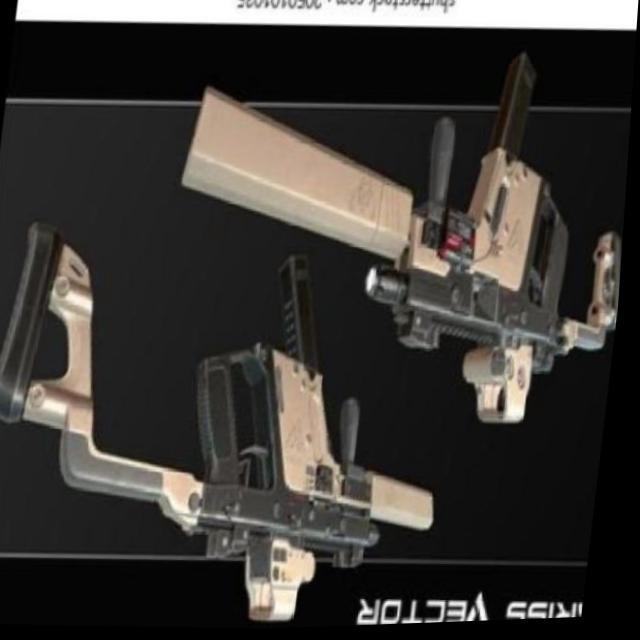weapon: (0, 205, 473, 640), (155, 34, 638, 442)
